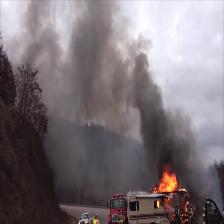fire: (158, 171, 177, 192)
